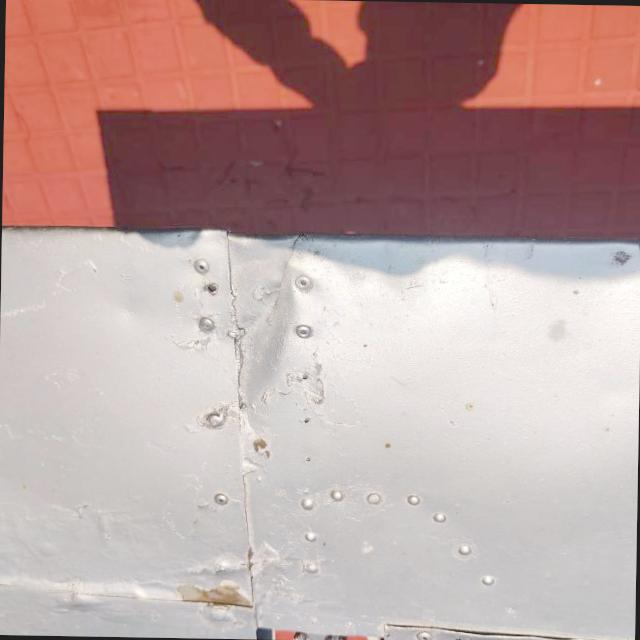crack: (286, 224, 315, 260)
paint-off: (160, 566, 266, 619), (242, 427, 280, 469)
